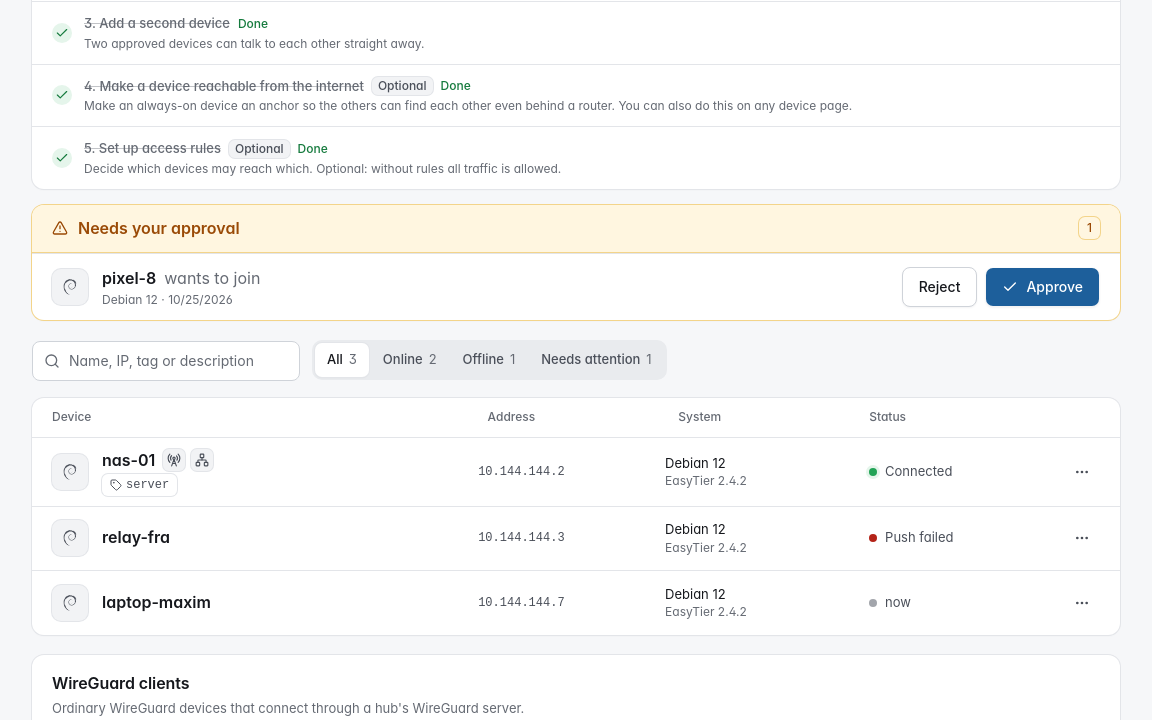
Scenario: NetworkDevicesPage › searches by name and filters by online or issues
(page scrolled)
Expected: the link with aria-label "Open nas-01" is shown, [102,448,155,472]
Expected: the link with aria-label "Open relay-fra" is shown, [102,525,170,549]
Type "relay" into the search field named "Search devices" at (166, 360), box [32,340,300,380]
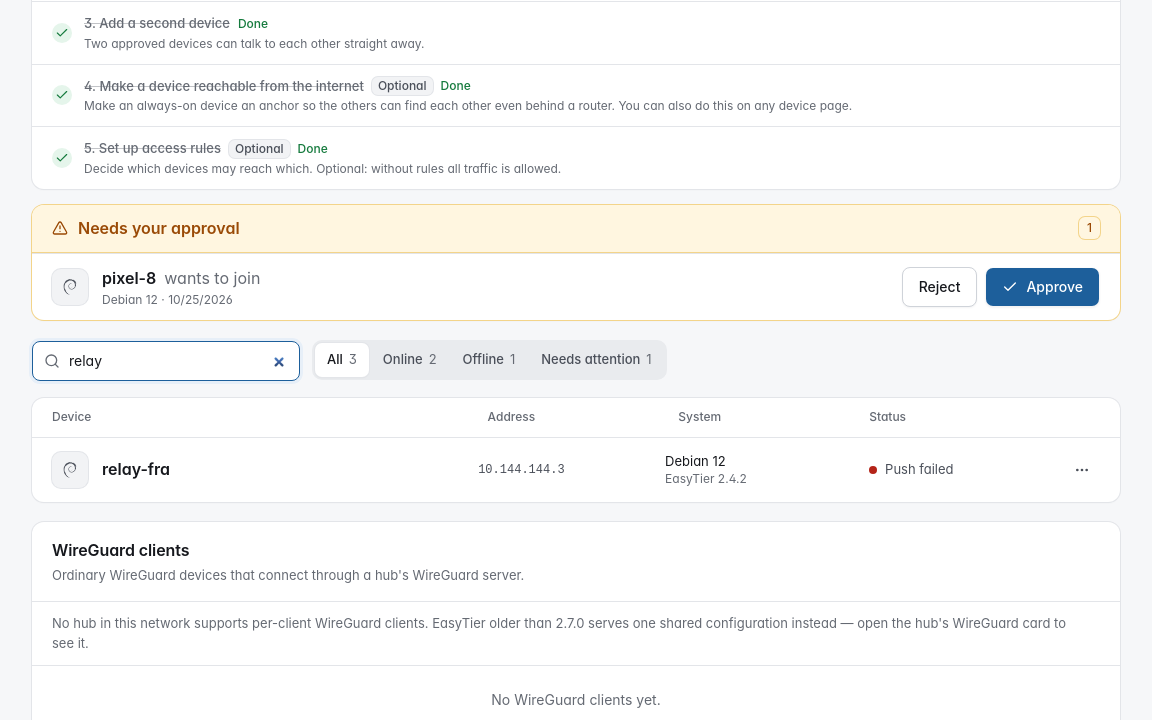
Expected: the link with aria-label "Open relay-fra" is shown, [102,456,170,480]
Expected: the link "Open nas-01" is gone
Clear the search field named "Search devices" at (166, 360), box [32,340,300,380]
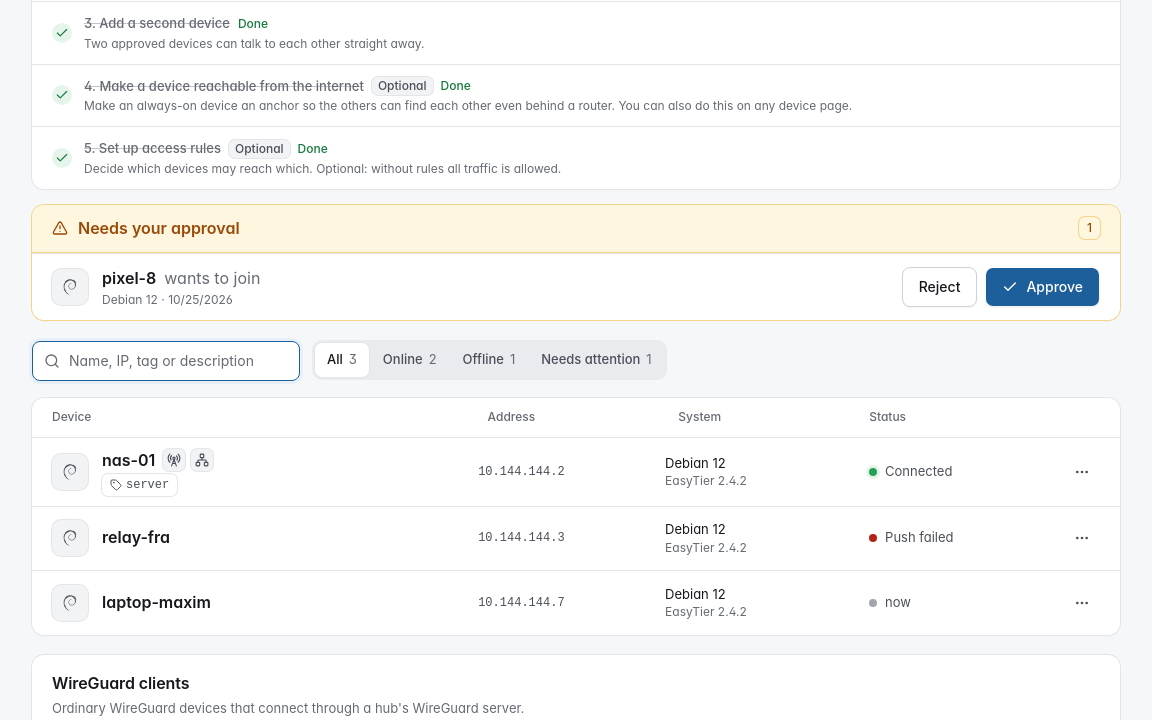
Click the radio button labelled "Needs attention 1" at (596, 360), box [529,342,664,376]
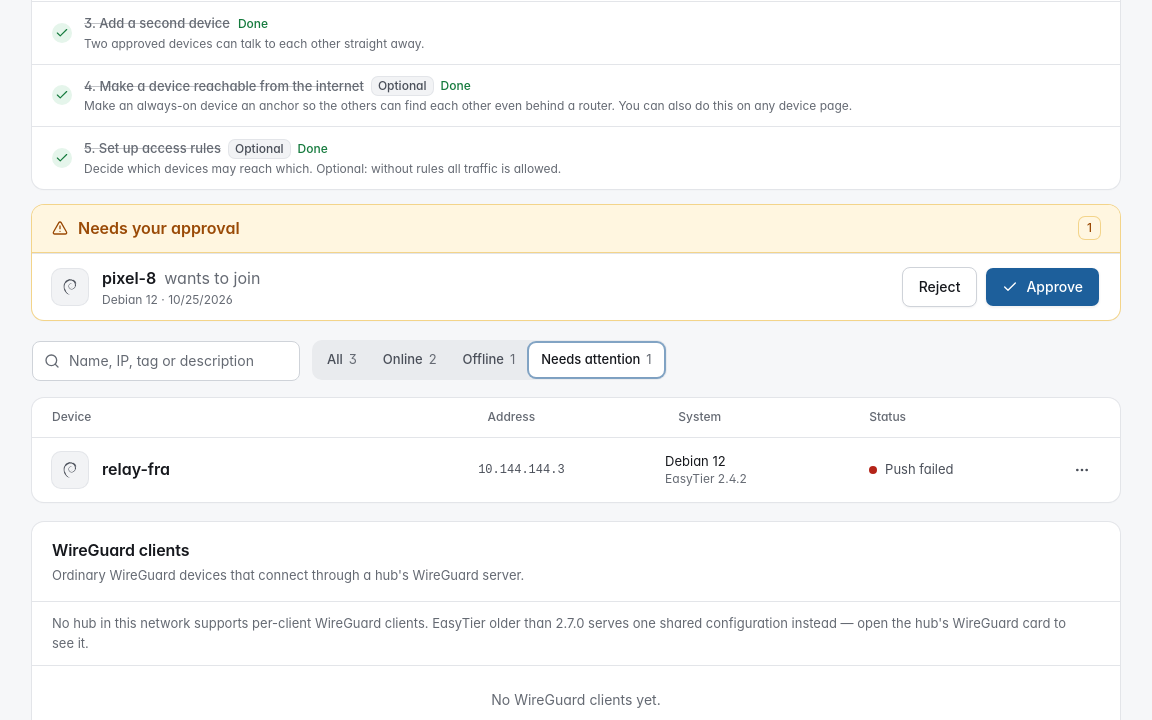
Expected: the link with aria-label "Open relay-fra" is shown, [102,456,170,480]
Expected: the link "Open nas-01" is gone
Expected: the link "Open laptop-maxim" is gone
Click the radio button labelled "Offline 1" at (489, 360), box [451,342,527,376]
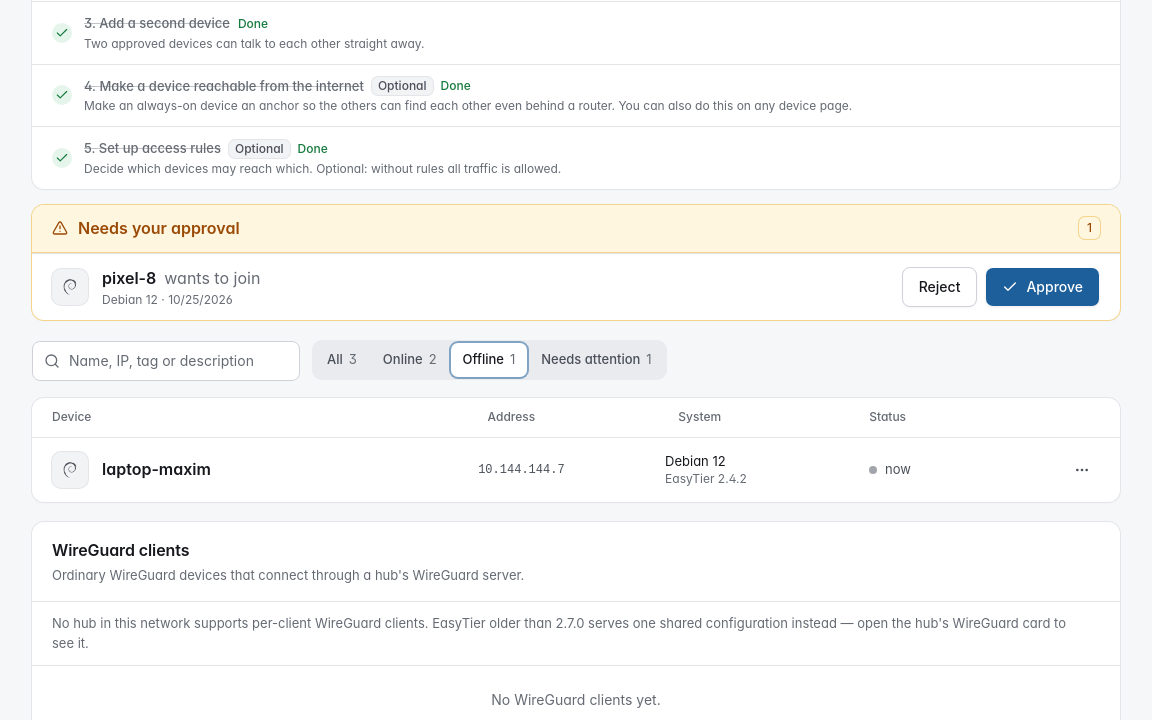
Expected: the link "Open relay-fra" is gone
Expected: the link with aria-label "Open laptop-maxim" is shown, [102,456,211,480]
Click the radio button labelled "Online 2" at (410, 360), box [371,342,448,376]
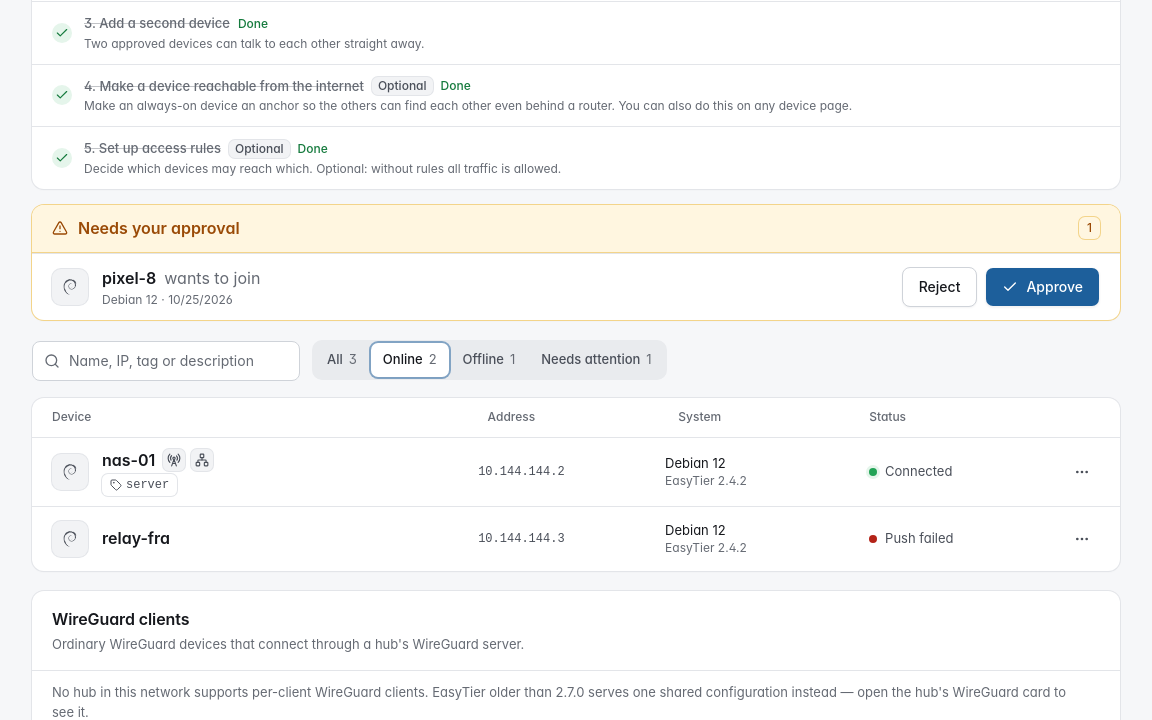
Expected: the link "Open laptop-maxim" is gone
Expected: the link with aria-label "Open nas-01" is shown, [102,448,155,472]
